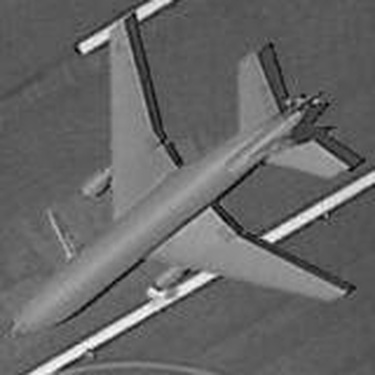airplane: (5, 6, 367, 354)
